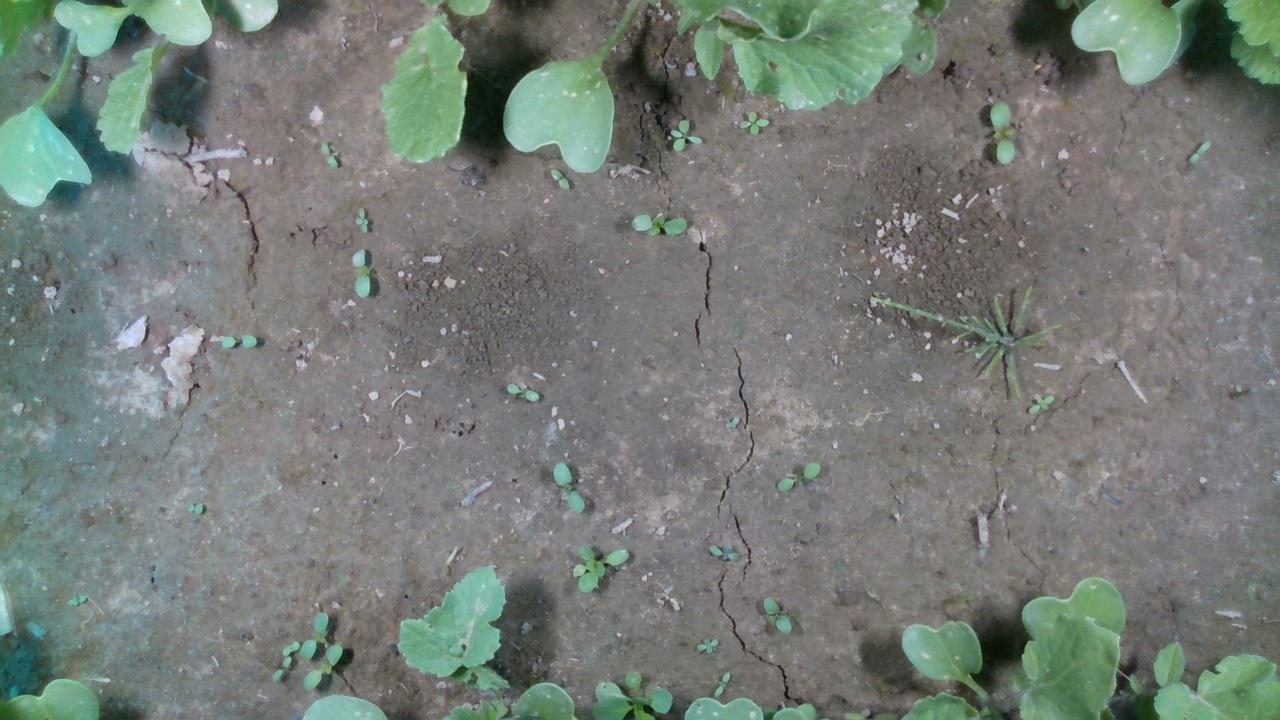weed: (988, 99, 1014, 166), (552, 461, 585, 512), (776, 459, 820, 491), (666, 116, 704, 153), (627, 212, 688, 235), (760, 595, 792, 635), (737, 109, 770, 135), (504, 381, 539, 401), (269, 654, 291, 684), (316, 140, 338, 167), (708, 542, 739, 561), (1188, 137, 1210, 163), (1026, 393, 1053, 414), (219, 332, 256, 347), (712, 670, 730, 698), (548, 167, 568, 190), (694, 635, 718, 654), (353, 206, 367, 232)
